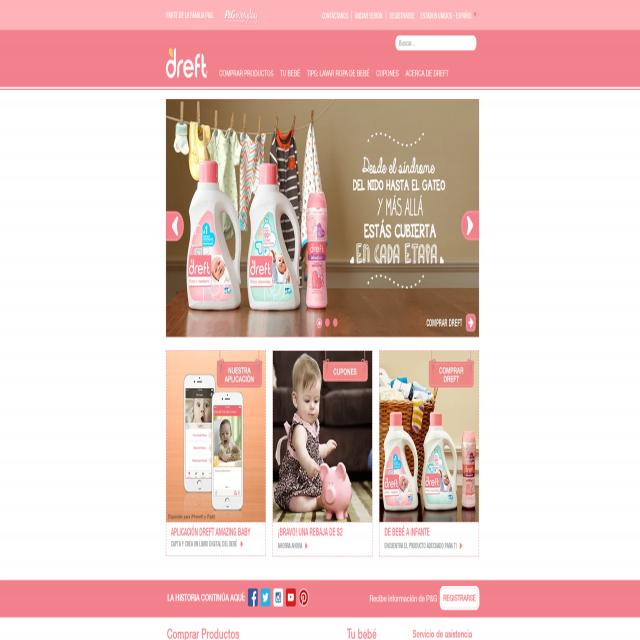button: (166, 99, 478, 337), (166, 351, 266, 522), (272, 351, 372, 522), (379, 351, 479, 522), (166, 48, 208, 78), (307, 62, 369, 81), (417, 314, 475, 332), (219, 62, 273, 81), (440, 586, 480, 610), (406, 62, 448, 81), (225, 8, 258, 25), (166, 211, 184, 241), (461, 211, 479, 240), (376, 62, 398, 81), (280, 62, 300, 81), (248, 588, 258, 606), (260, 588, 270, 606), (273, 588, 283, 606), (286, 588, 296, 606), (298, 588, 308, 606)
field: (396, 35, 476, 51)
